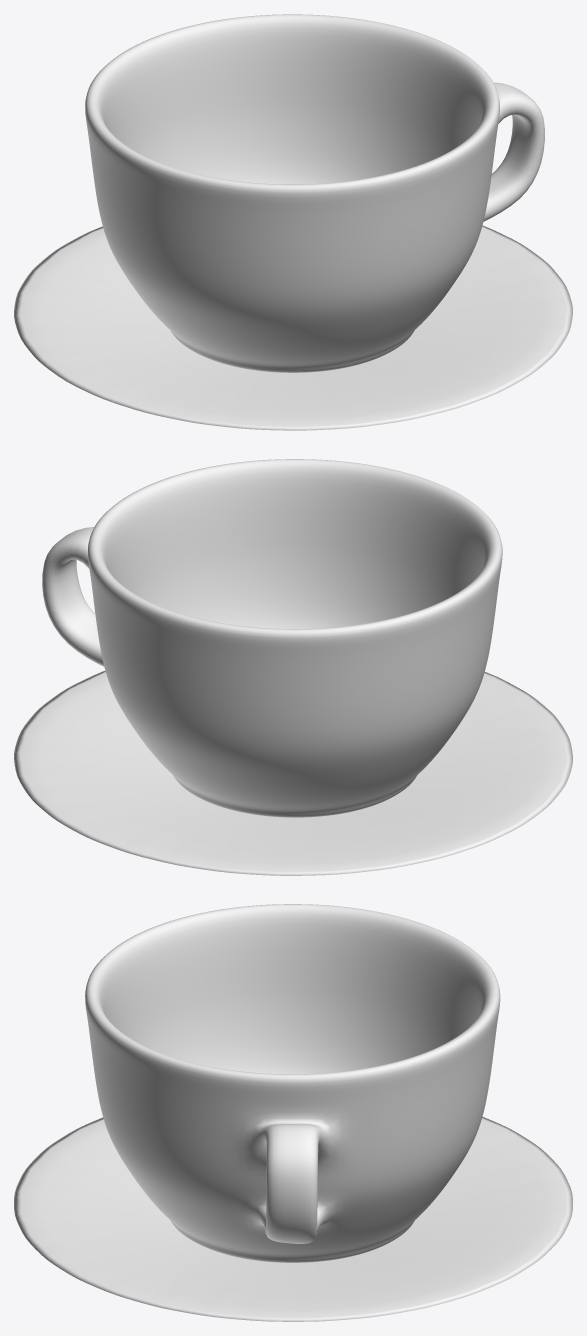
File: obj_coffe_cup_2d7ee4.glb
The picture shows the model from 3 angles, top to bottom: view 1: azimuth 30°, elevation 25°; view 2: azimuth 150°, elevation 25°; view 3: azimuth 270°, elevation 25°; orthographic projection.
Visible parts, largest first — view 1: obj_coffe_cup_2d7ee4; view 2: obj_coffe_cup_2d7ee4; view 3: obj_coffe_cup_2d7ee4.
Boxes of the visible parts, x1,y1,x2,y2 form: obj_coffe_cup_2d7ee4: (14,14,572,430); obj_coffe_cup_2d7ee4: (14,459,572,875); obj_coffe_cup_2d7ee4: (14,904,572,1321).
Size of the model in its own units: 0.1494 by 0.07 by 0.1488.
1 material, 1 textured.
